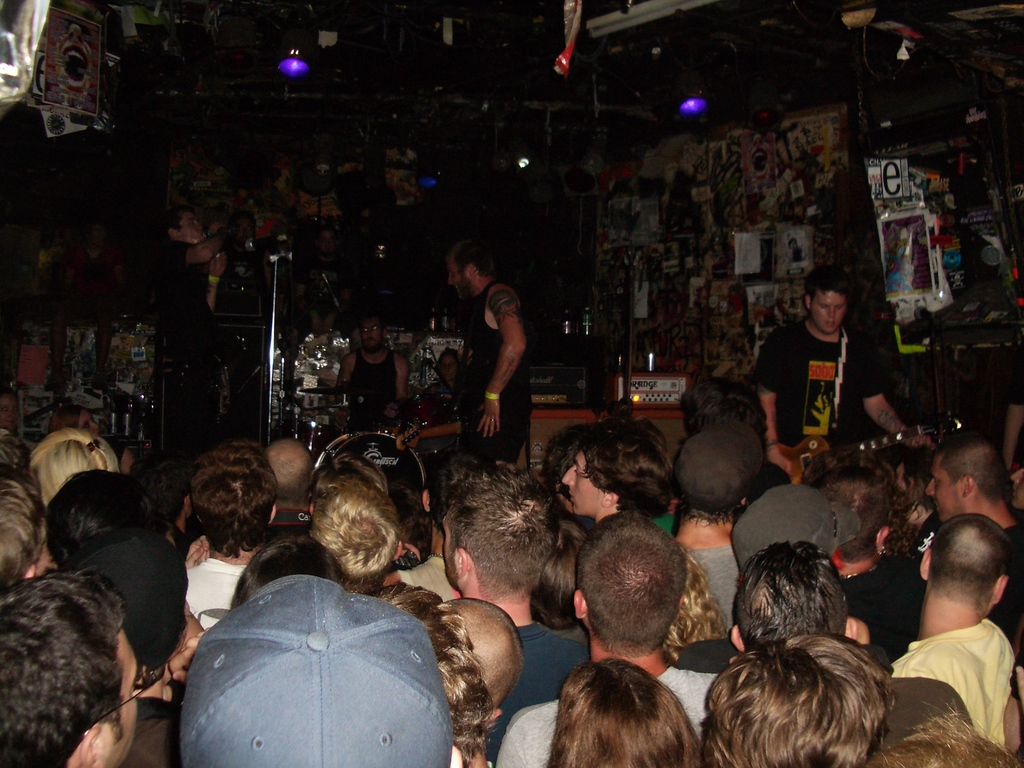Human-face: (560, 447, 602, 512), (928, 463, 968, 515), (811, 292, 844, 336), (362, 318, 382, 358), (448, 261, 469, 294), (436, 349, 456, 381)
